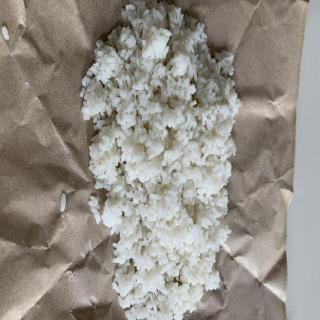Nasi: (84, 1, 240, 320)
